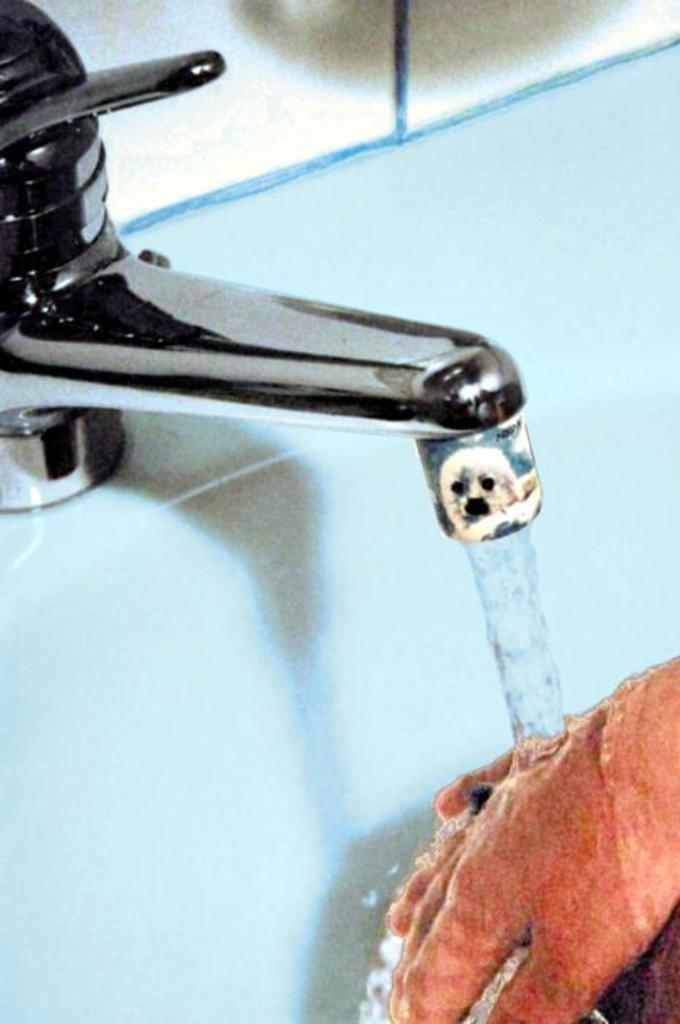tap: (0, 62, 552, 571)
